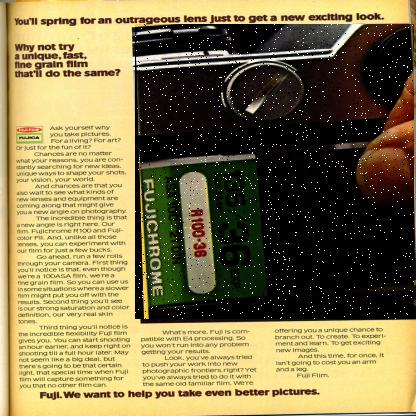Camera: (136, 25, 416, 321)
